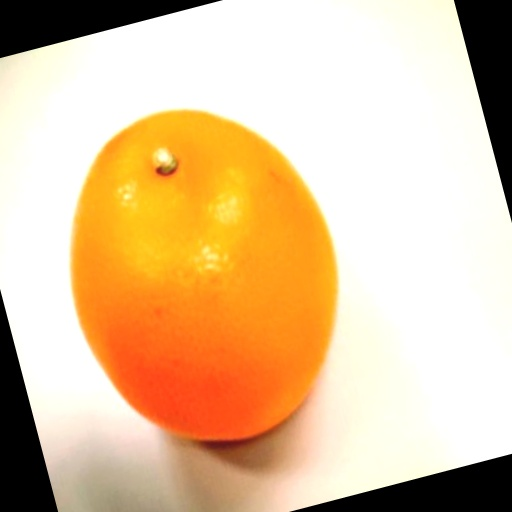fruit: (208, 85, 465, 431)
